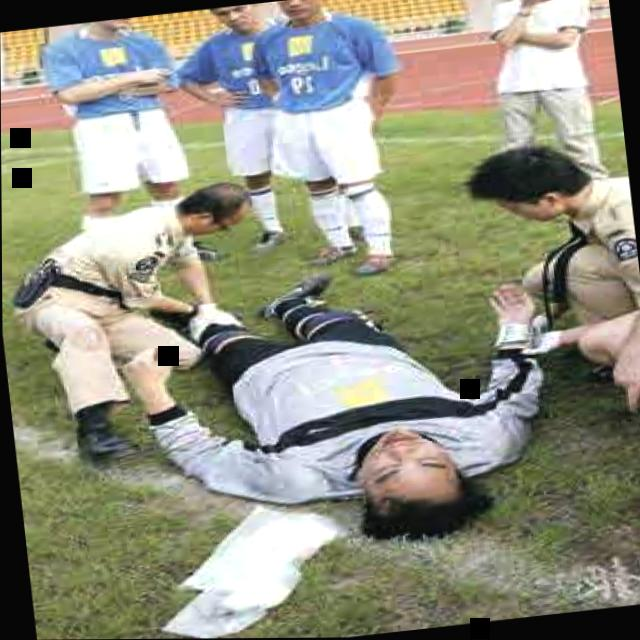Fall-Detected: (108, 231, 584, 578)
